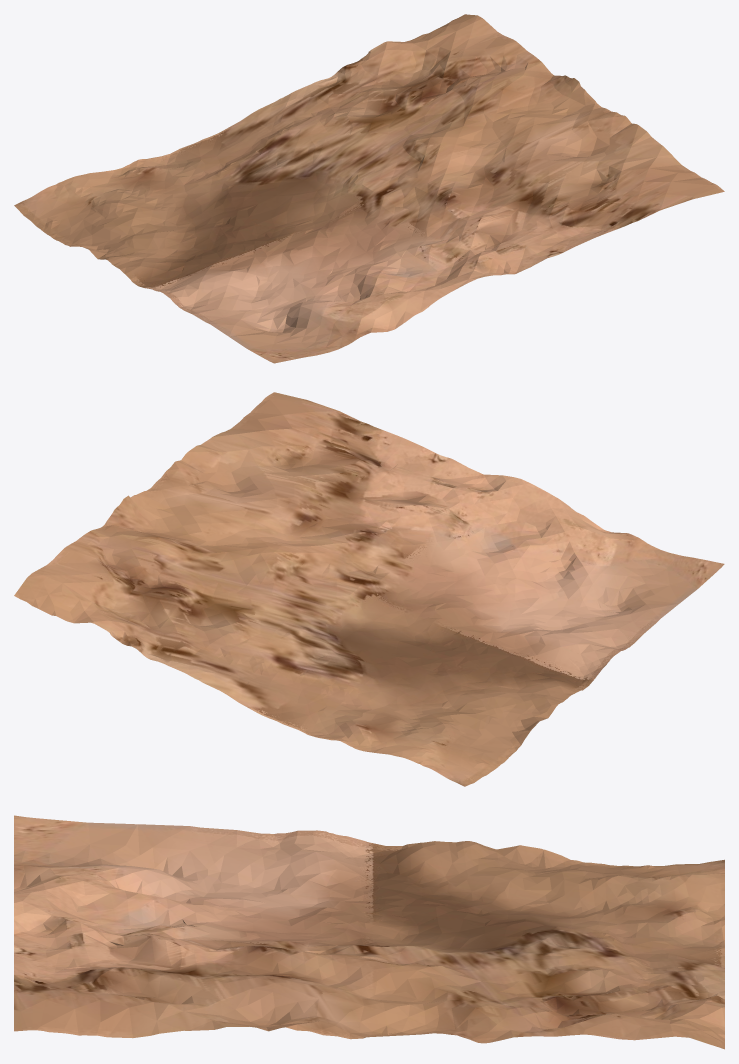
3 renders of one model, top to bottom at view 1: azimuth 30°, elevation 25°; view 2: azimuth 150°, elevation 25°; view 3: azimuth 270°, elevation 25°, orthographic. The views are drawn at different scales.
Bounding box in the file's own units: 2.09 × 0.4541 × 2.09.
Materials: 2 (2 with a texture image).
